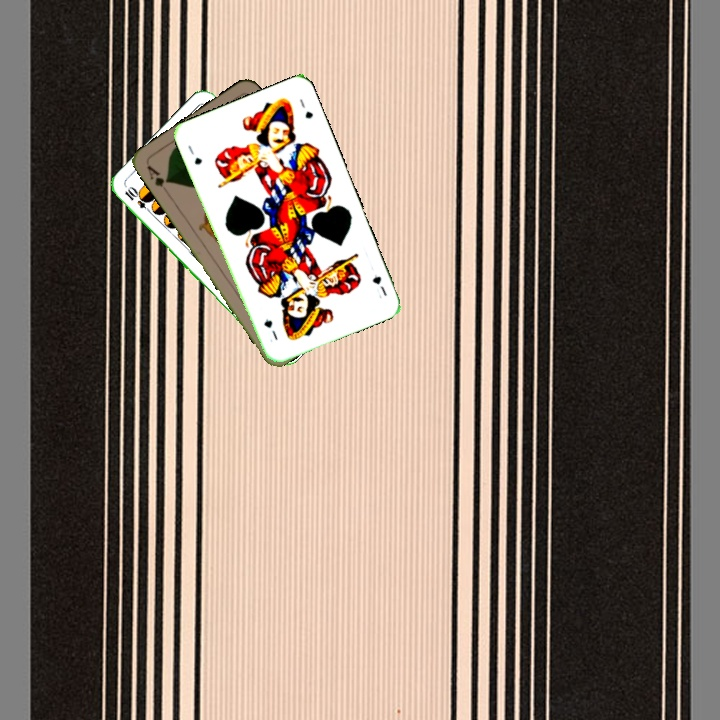E10: (120, 184, 155, 216)
GA: (142, 161, 172, 197)
GU: (368, 271, 390, 299), (184, 141, 204, 167)
